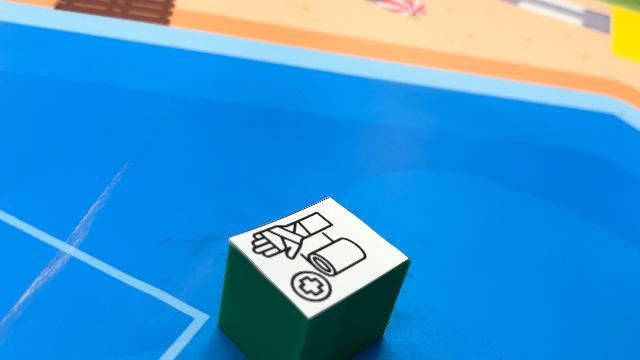bandage: (217, 197, 411, 360)
